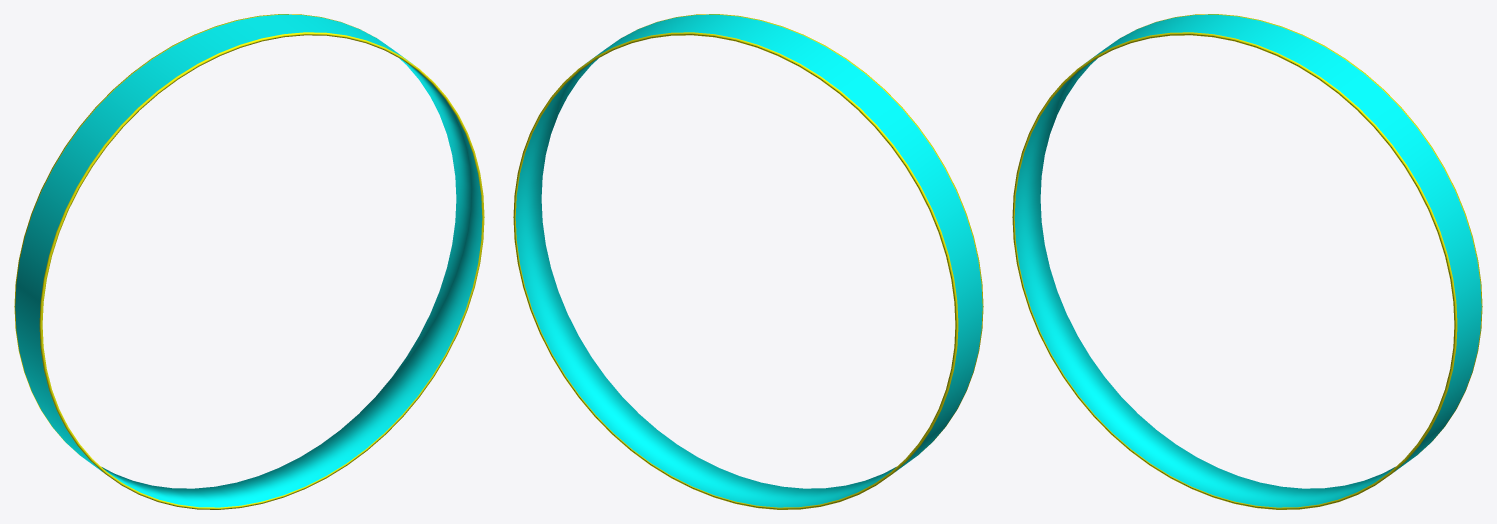
Rendered from TouchNote15.fbx.
3 renders of one model, left to right at view 1: azimuth 30°, elevation 25°; view 2: azimuth 150°, elevation 25°; view 3: azimuth 330°, elevation 25°, orthographic.
Visible parts, largest first — view 1: TouchNote15; view 2: TouchNote15; view 3: TouchNote15.
Part boxes in pixels (<box>): TouchNote15: <box>14,14,484,509</box>; TouchNote15: <box>513,14,983,509</box>; TouchNote15: <box>1012,14,1482,509</box>.
Size of the model in its own units: 198 by 20 by 198.
